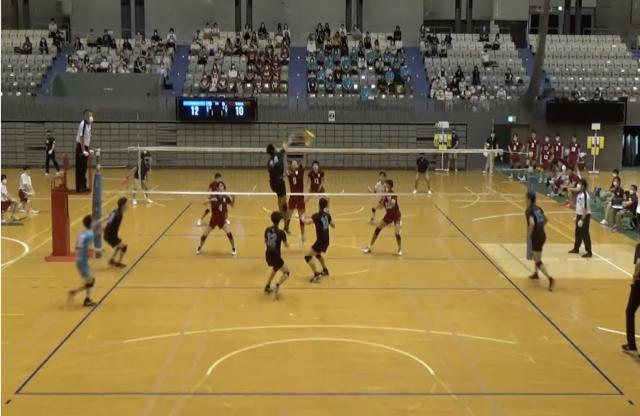spike: (264, 130, 302, 236)
